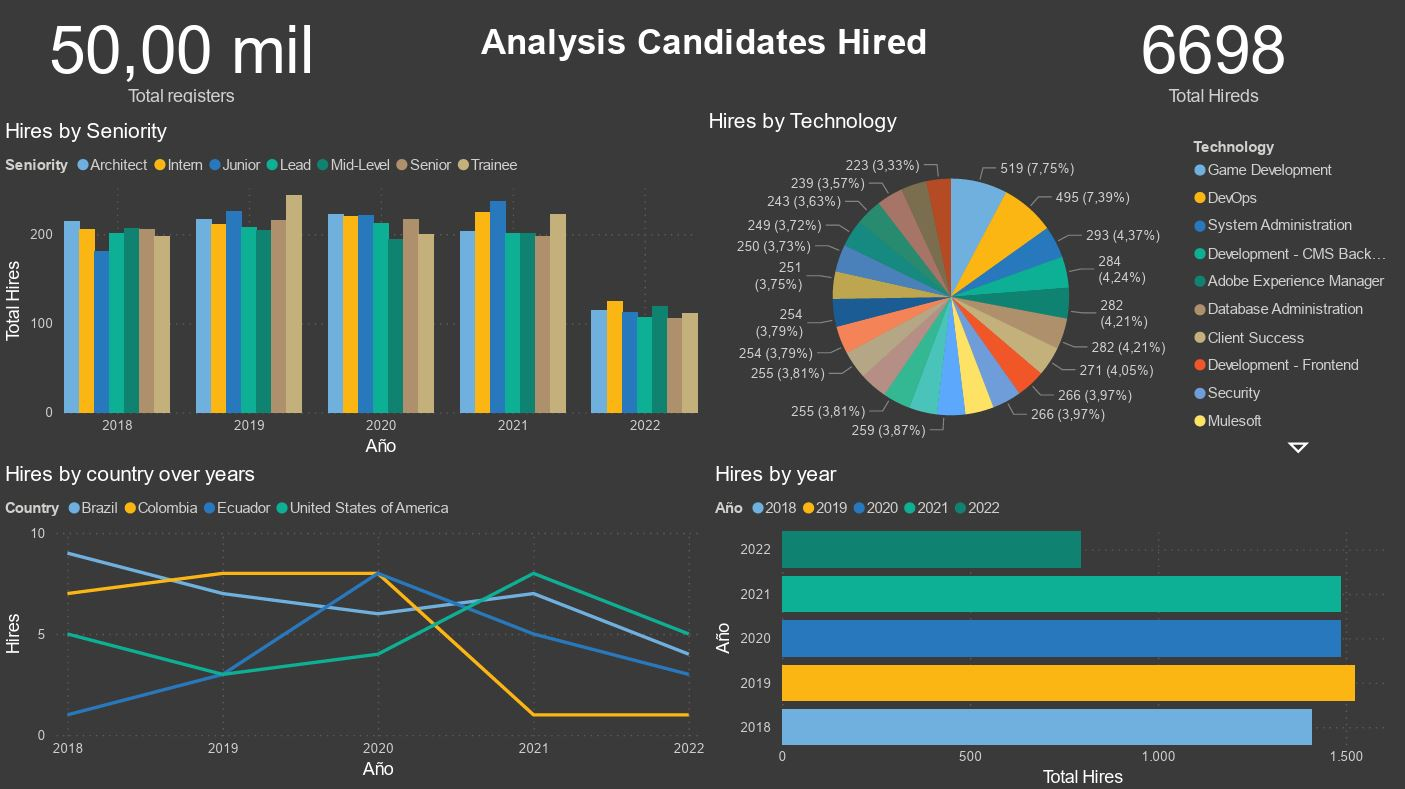

What the dashboard file says about the page in this screenshot:
{"tool":"powerbi","page":{"name":"Página 1","canvas":[1280,720],"ordinal":0},"visuals":[{"type":"pieChart","title":"Hires by Technology","fields":{"Y":["CountNonNull(workshop_1 candidates_hired.Hired)"],"Category":["workshop_1 candidates_hired.Technology"]},"box":[646,98,634,321],"z":0},{"type":"clusteredColumnChart","title":"Hires by Seniority","fields":{"Series":["workshop_1 candidates_hired.Seniority"],"Y":["CountNonNull(workshop_1 candidates_hired.Hired)"],"Category":["workshop_1 candidates_hired.Application Date.Variación.Jerarquía de fechas.Año"]},"box":[0,107,640,312],"z":1000},{"type":"barChart","title":"Hires by year","fields":{"Series":["workshop_1 candidates_hired.Application Date.Variación.Jerarquía de fechas.Año"],"Y":["CountNonNull(workshop_1 candidates_hired.Hired)"],"Category":["workshop_1 candidates_hired.Application Date.Variación.Jerarquía de fechas.Año"]},"box":[645.8,418.9,634.2,301.6],"z":2000},{"type":"lineChart","title":" Hires by country over years","fields":{"Y":["CountNonNull(workshop_1 candidates_hired.Hired)"],"Category":["workshop_1 candidates_hired.Application Date.Variación.Jerarquía de fechas.Año"],"Series":["workshop_1 candidates_hired.Country"]},"box":[0,418.9,645.8,292.8],"z":3000},{"type":"card","fields":{"Values":["CountNonNull(workshop_1 candidates_hired.Hired)"]},"box":[929,0,351,98],"z":4000},{"type":"card","fields":{"Values":["CountNonNull(workshop_1 candidates_hired.Hired)"]},"box":[0,0,331,98],"z":5000},{"type":"textbox","box":[433,14,426,69],"z":6000}]}

Visuals, with their boxes in screenshot pixels (x1, y1, x2, y2), scaled from the page's 1280x720 canvas onto the 1405x789 screenshot:
"Hires by Technology" pieChart: pyautogui.locateOnScreen(709, 107, 1404, 459)
"Hires by Seniority" clusteredColumnChart: pyautogui.locateOnScreen(0, 117, 702, 459)
"Hires by year" barChart: pyautogui.locateOnScreen(709, 459, 1404, 788)
" Hires by country over years" lineChart: pyautogui.locateOnScreen(0, 459, 709, 780)
card - CountNonNull(workshop_1 candidates_hired.Hired): pyautogui.locateOnScreen(1020, 0, 1404, 107)
card - CountNonNull(workshop_1 candidates_hired.Hired): pyautogui.locateOnScreen(0, 0, 363, 107)
textbox: pyautogui.locateOnScreen(475, 15, 943, 91)
